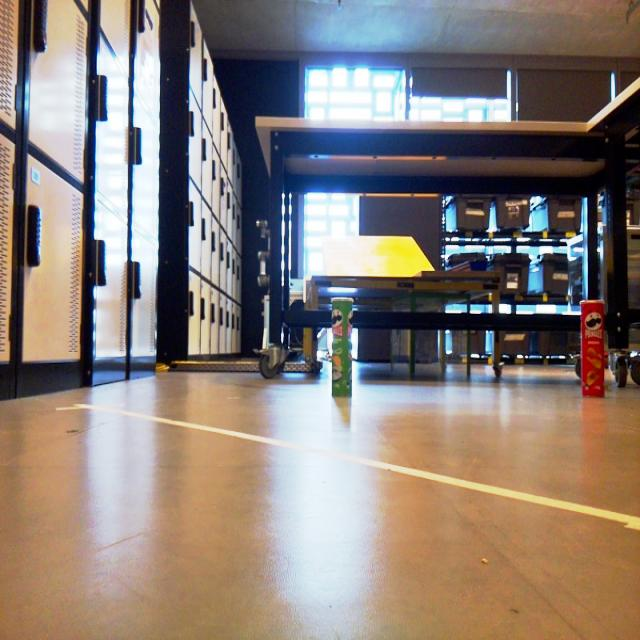greenpringles: (308, 290, 368, 404)
redpringles: (570, 282, 616, 410)
